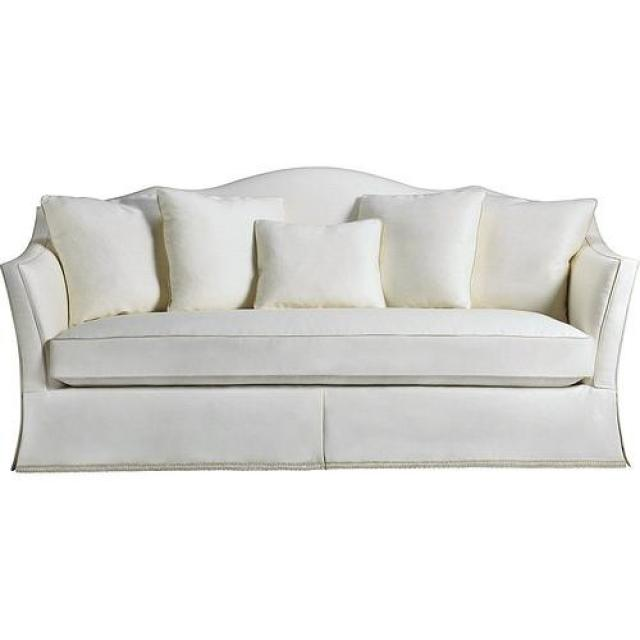sofa: (0, 164, 640, 470)
